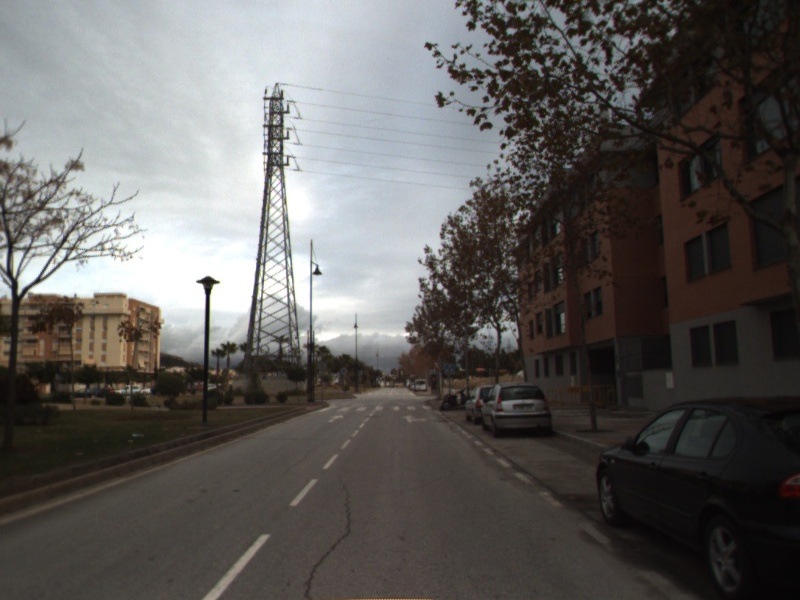STRAIGHT: (326, 413, 346, 424)
STRAIGHT_RIGHT: (400, 413, 429, 424)
